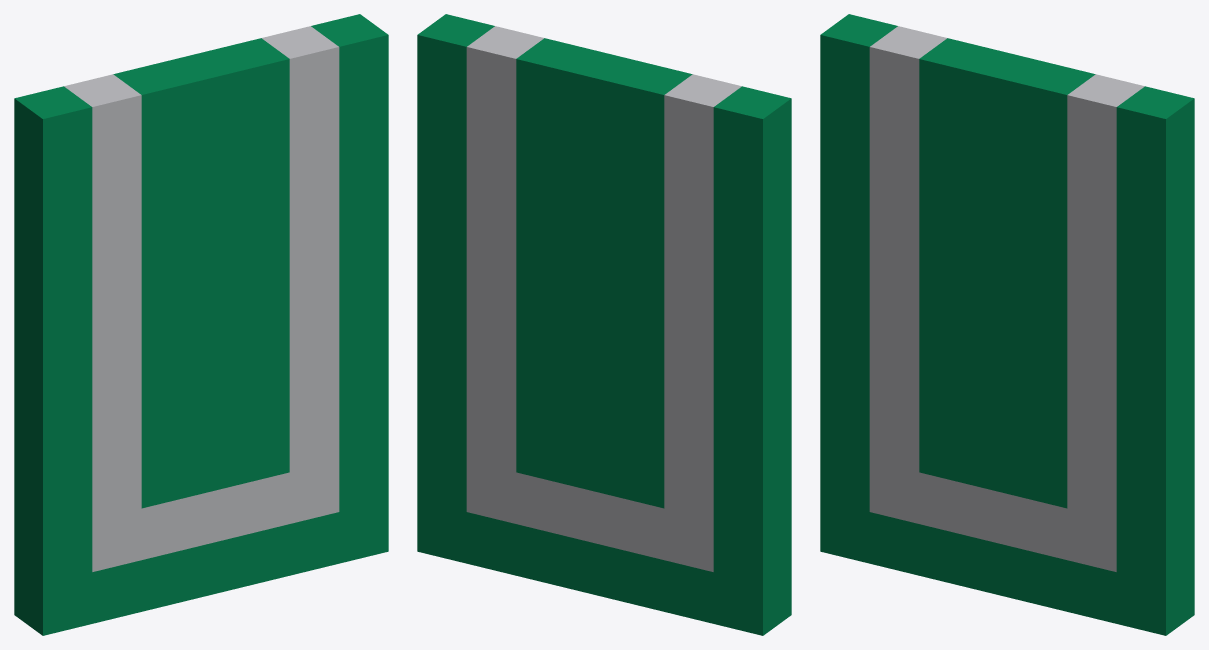
File: banner_a_green.obj
The picture shows the model from 3 angles, left to right: view 1: azimuth 30°, elevation 25°; view 2: azimuth 150°, elevation 25°; view 3: azimuth 330°, elevation 25°; orthographic projection.
Bounding box in the file's own units: 0.7 × 1 × 0.1.
Materials: 1 (1 with a texture image).
